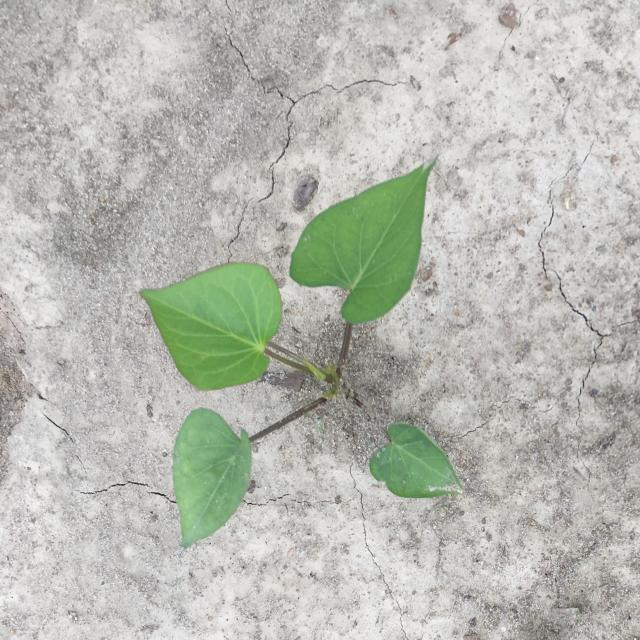MorningGlory: (140, 154, 463, 550)
